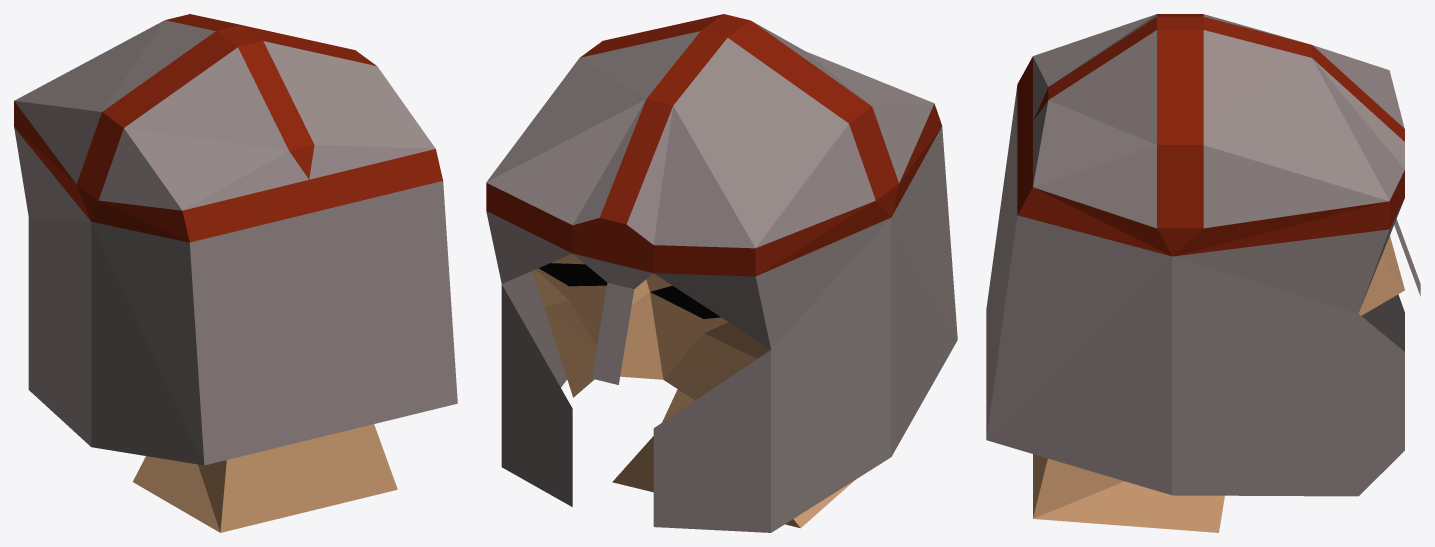
Rendered from npc_world_tower_guard_0.obj.
3 views of the same model, side by side, from view 1: azimuth 30°, elevation 25°; view 2: azimuth 150°, elevation 25°; view 3: azimuth 270°, elevation 25° (orthographic). The views are drawn at different scales.
Size of the model in its own units: 0.1875 by 0.2578 by 0.2188.
